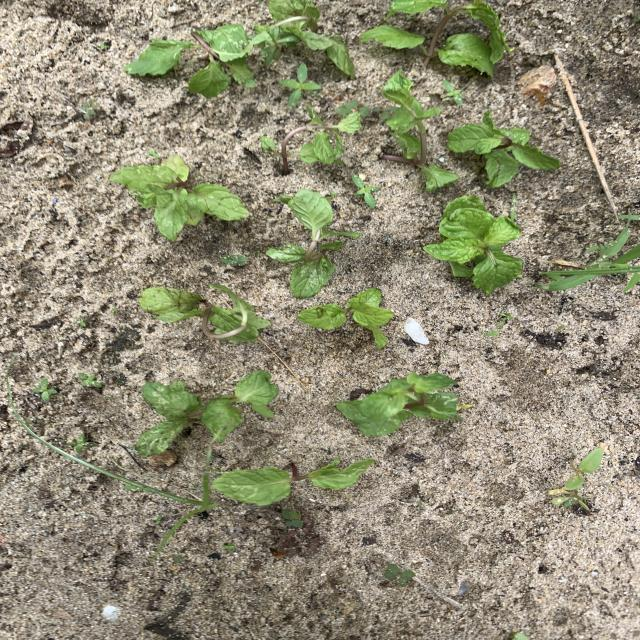crop: (136, 371, 277, 456), (109, 156, 247, 239), (360, 0, 512, 75), (267, 190, 359, 296), (124, 25, 255, 98), (424, 197, 523, 293), (383, 71, 457, 191), (448, 109, 559, 185), (337, 373, 460, 435), (139, 285, 269, 343), (215, 457, 374, 504), (251, 1, 353, 74), (261, 107, 360, 171), (298, 288, 393, 347)
weed: (12, 412, 213, 558), (542, 224, 638, 291), (280, 64, 319, 105), (567, 448, 602, 488), (353, 175, 379, 207), (384, 564, 415, 586), (33, 378, 56, 402), (336, 102, 369, 118), (66, 434, 94, 452), (442, 80, 463, 103), (79, 100, 101, 118), (282, 509, 302, 527), (78, 372, 102, 387), (221, 255, 247, 266), (498, 312, 511, 325), (484, 328, 500, 335), (172, 555, 183, 563), (76, 319, 87, 327), (223, 544, 235, 551), (325, 191, 335, 199), (98, 43, 107, 50)
